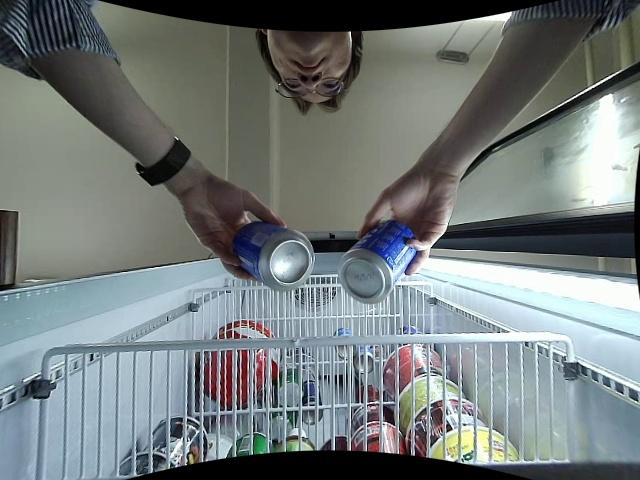00_hand: (182, 181, 288, 279), (359, 171, 456, 274)
13_pocariSweat: (341, 221, 420, 304), (235, 219, 317, 294)
